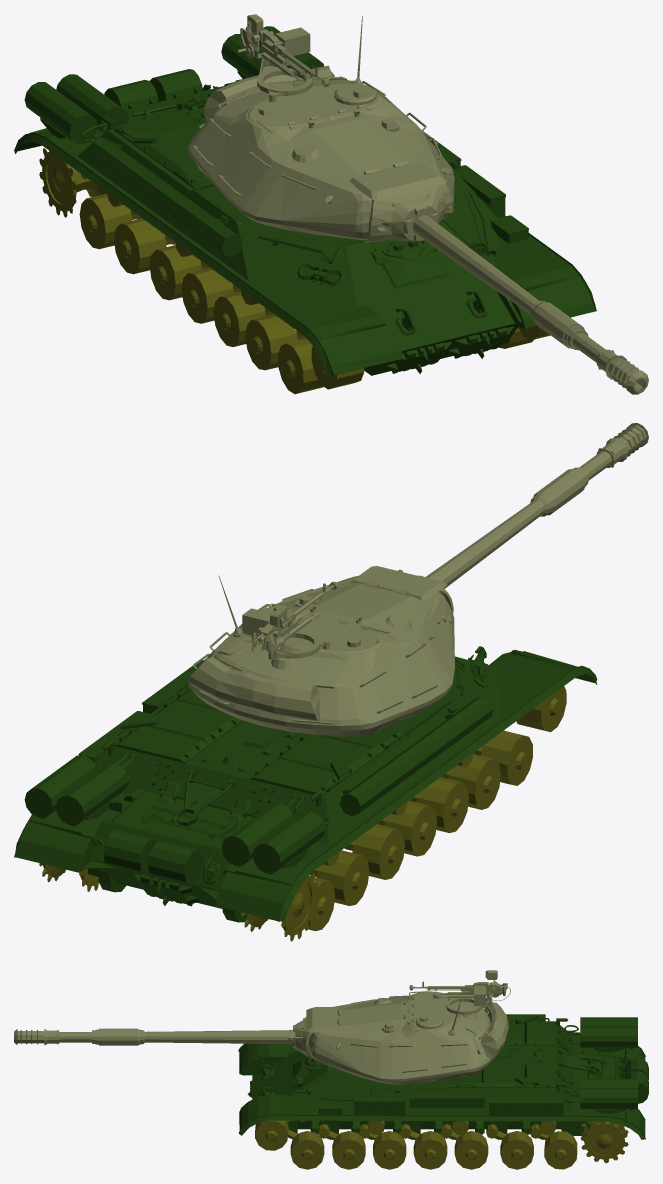
Rendered from Tank.fbx.
3 renders of one model, top to bottom at view 1: azimuth 30°, elevation 25°; view 2: azimuth 150°, elevation 25°; view 3: azimuth 270°, elevation 25°, orthographic. The views are drawn at different scales.
Visible parts, largest first — view 1: Hull, Turret, Wheels_Right, Gun, Wheels_Left; view 2: Hull, Turret, Wheels_Right, Gun; view 3: Hull, Turret, Wheels_Left, Gun.
Boxes of the visible parts, x1,y1,x2,y2 form: Hull: [14, 26, 596, 376]; Turret: [188, 14, 454, 240]; Wheels_Right: [39, 148, 364, 394]; Gun: [365, 185, 648, 394]; Wheels_Left: [499, 326, 550, 348]; Hull: [14, 646, 597, 922]; Turret: [188, 566, 454, 736]; Wheels_Right: [241, 686, 566, 941]; Gun: [398, 423, 648, 614]; Hull: [238, 1014, 648, 1139]; Turret: [306, 970, 510, 1084]; Wheels_Left: [255, 1120, 628, 1169]; Gun: [14, 1017, 312, 1057].
Bounding box in the file's own units: 331 × 290 × 1048.
